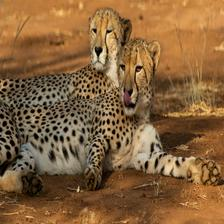Cheetah: (0, 37, 222, 204), (0, 0, 132, 137)
